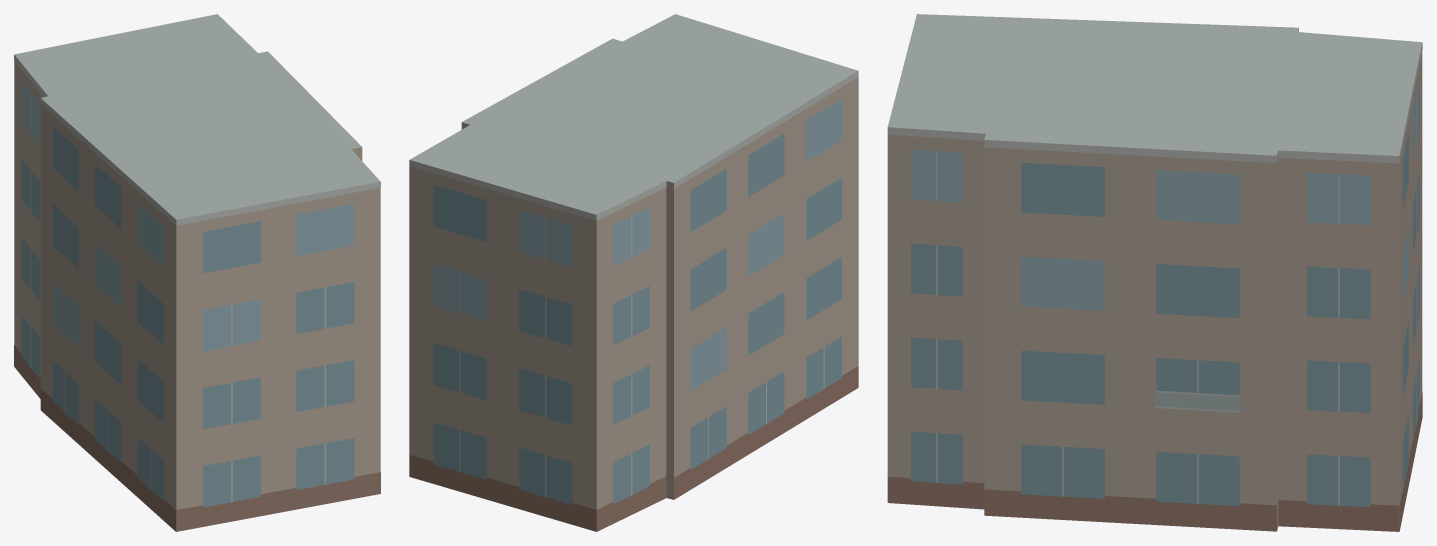
File: survey-upis-32632202.glb
3 renders of one model, left to right at view 1: azimuth 30°, elevation 25°; view 2: azimuth 150°, elevation 25°; view 3: azimuth 270°, elevation 25°, orthographic. The views are drawn at different scales.
Visible parts, largest first — view 1: survey-upis-32632202.tmp; view 2: survey-upis-32632202.tmp; view 3: survey-upis-32632202.tmp.
Part boxes in pixels (box(x1,y1,x2,y2)): survey-upis-32632202.tmp: box(14, 14, 380, 531); survey-upis-32632202.tmp: box(409, 14, 858, 531); survey-upis-32632202.tmp: box(887, 14, 1422, 531).
Size of the model in its own units: 10.06 by 12.4 by 16.
